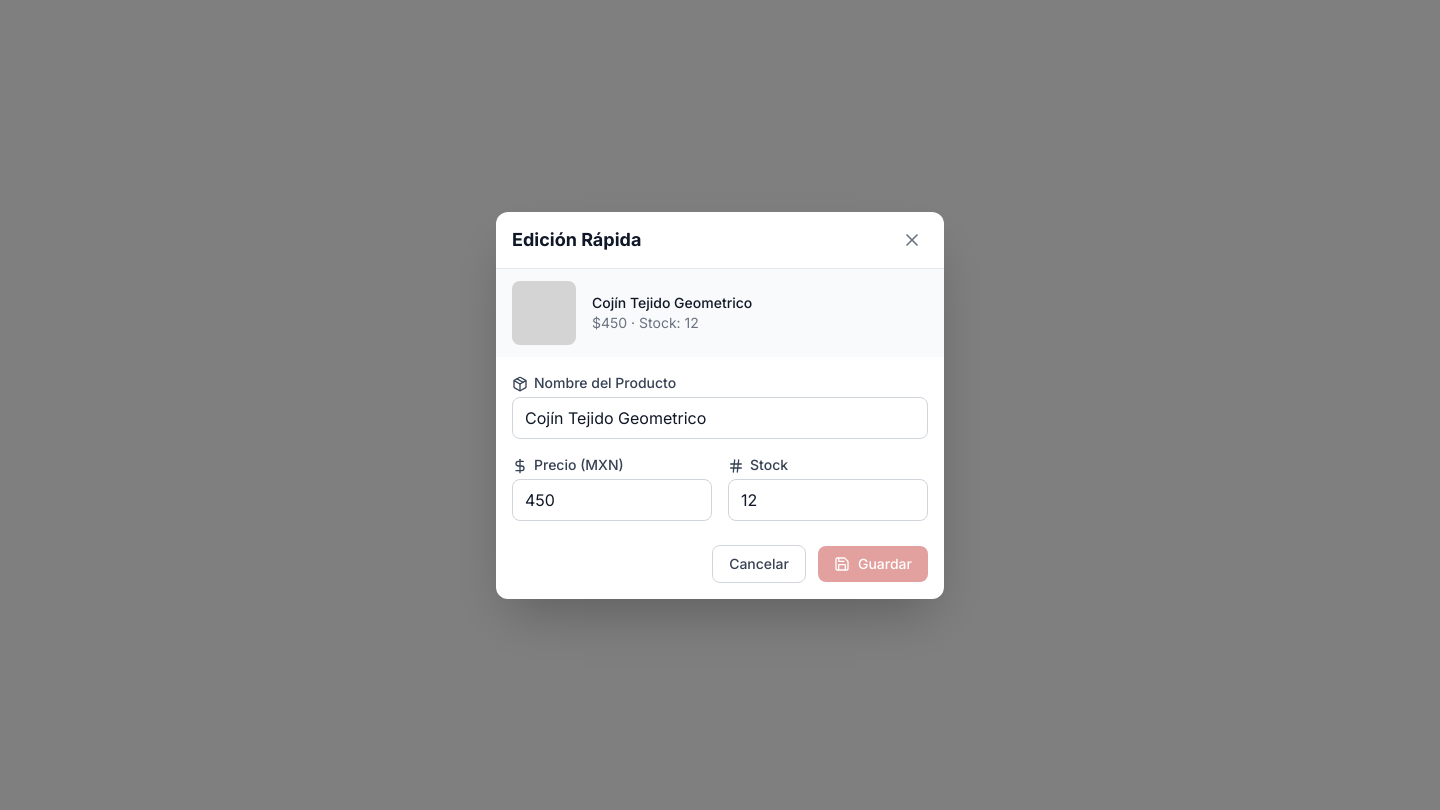
Test case: QuickEditModal › validation › should show error when stock is invalid (non-numeric)
Step 1. Clear the number field labelled "Stock" → (828, 500), box [728, 478, 928, 520]
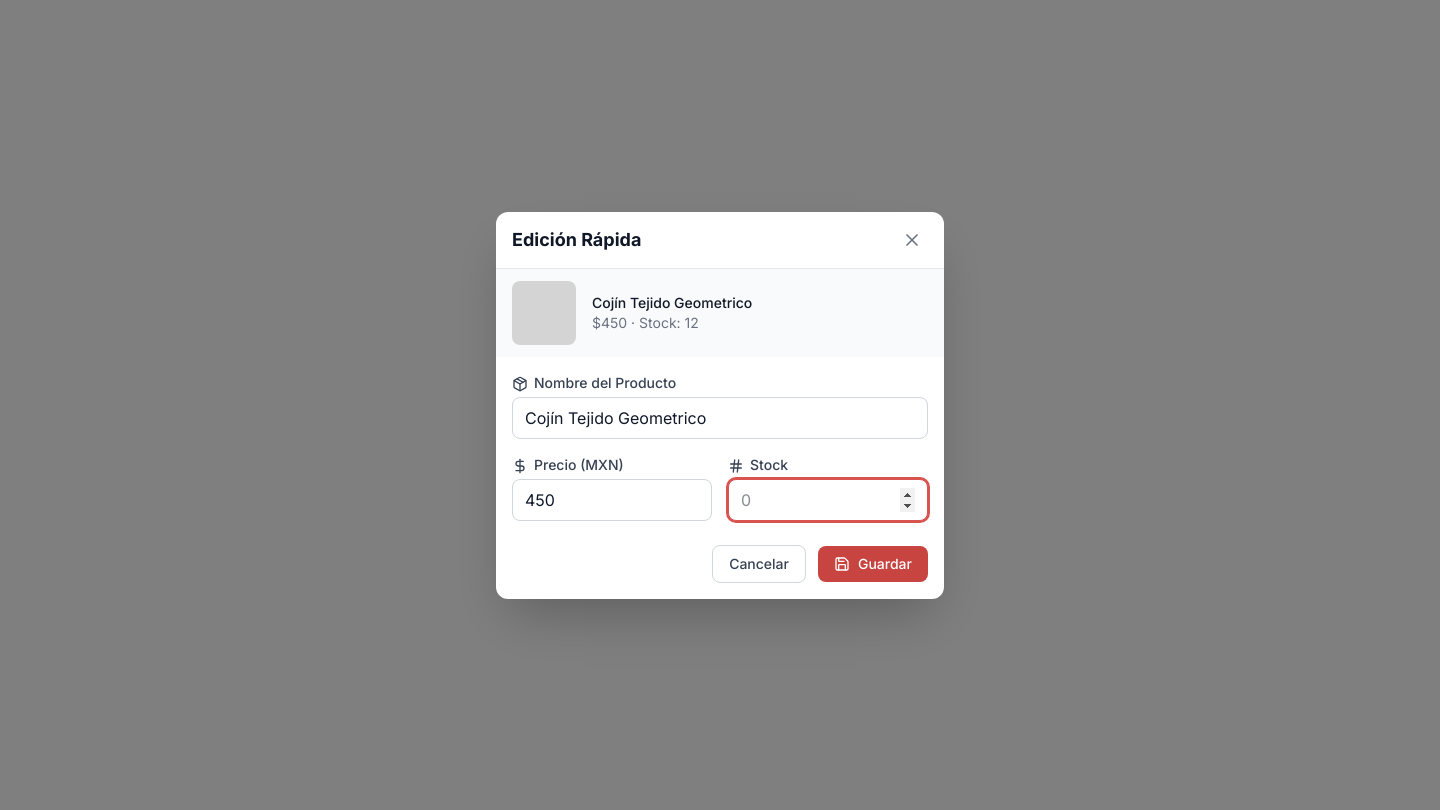
Note: Also change name to enable the save button
Step 2. Replace the text in the field labelled "Nombre del Producto" with "Nuevo Nombre" → (720, 418), box [512, 396, 928, 438]
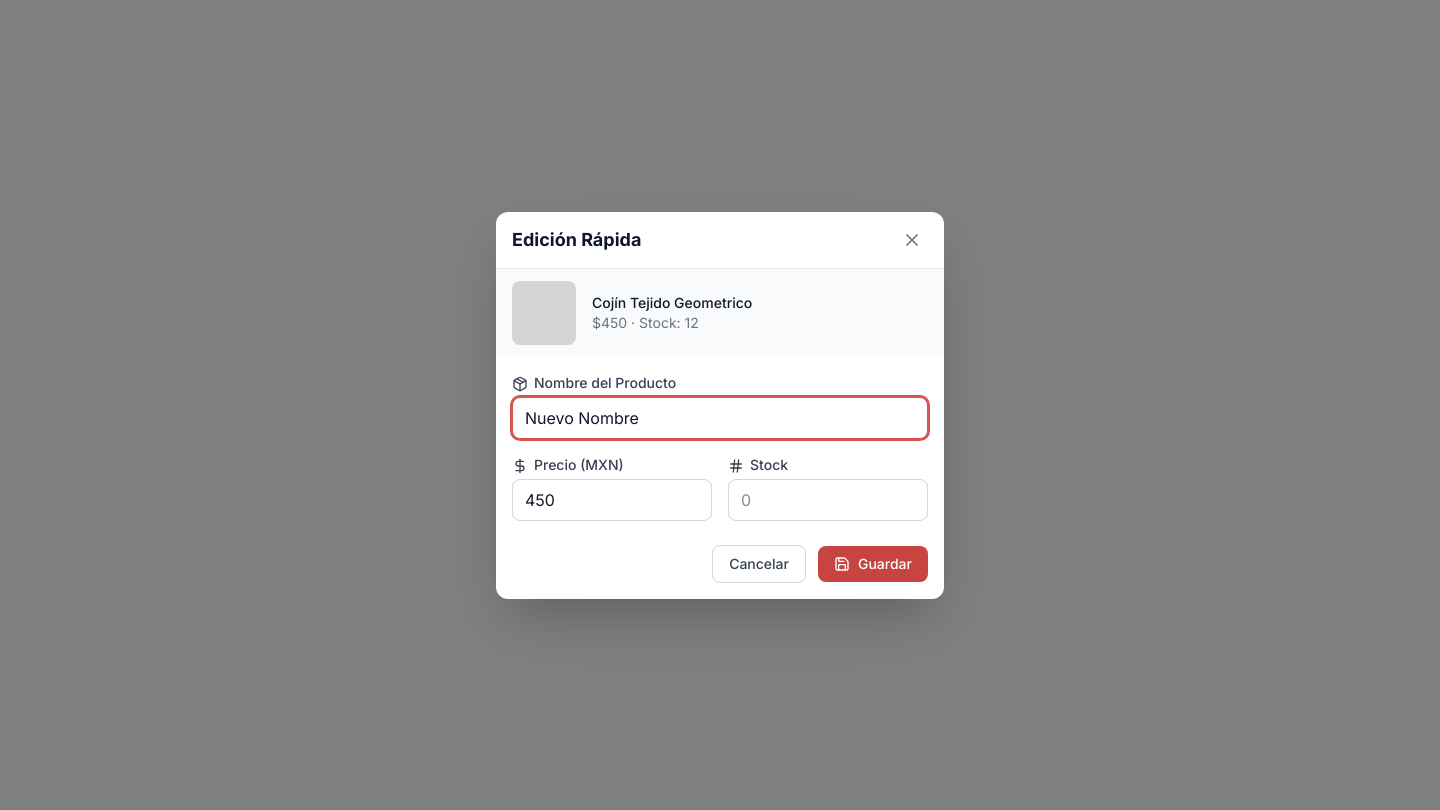
Step 3. Click the button "Guardar" → (873, 564), box [818, 546, 928, 582]
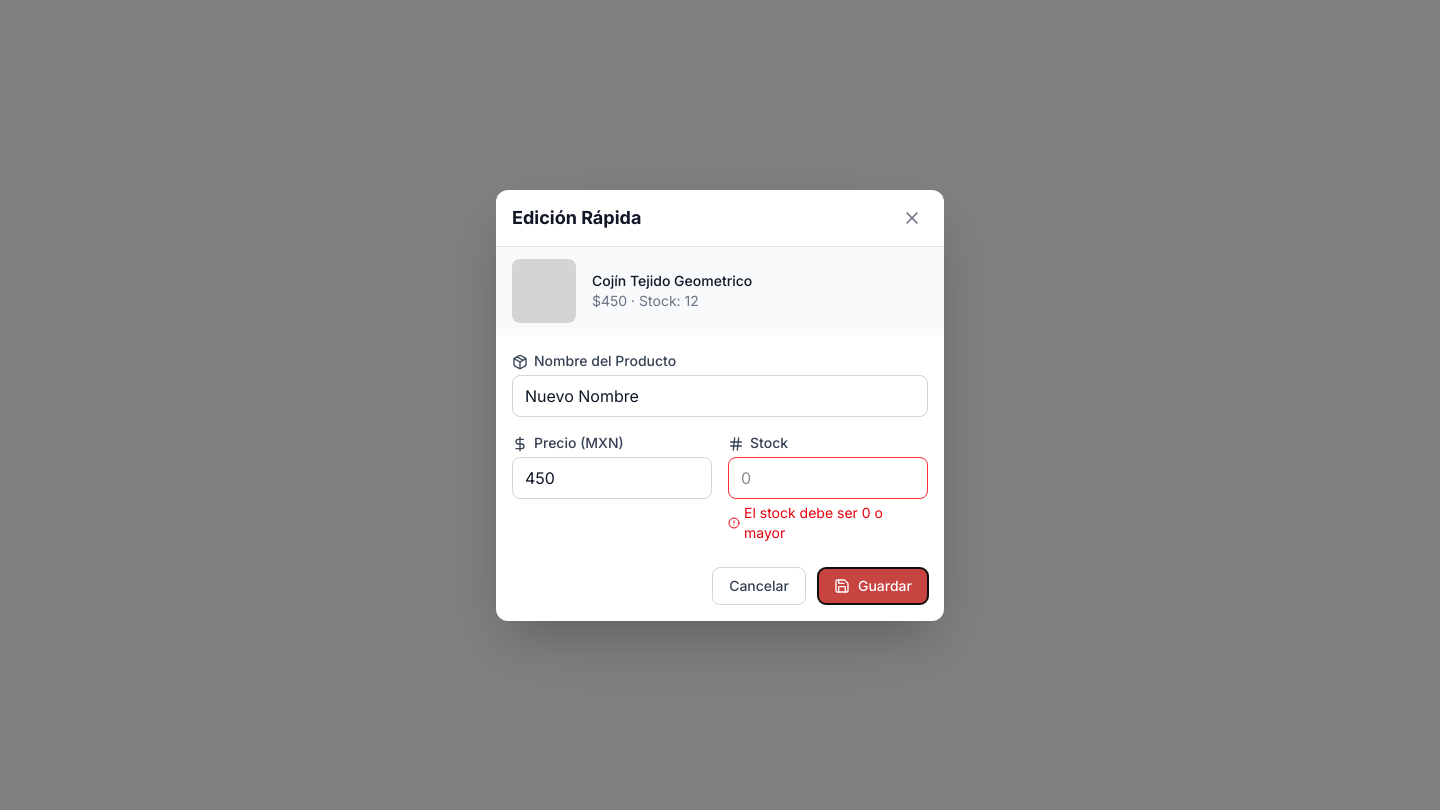
Expected: the text "El stock debe ser 0 o mayor" is shown, [728, 504, 883, 540]
